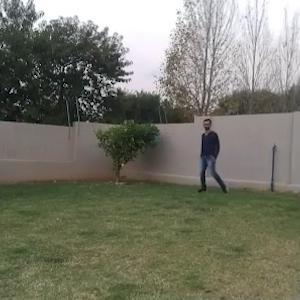follow: (199, 115, 219, 196)
